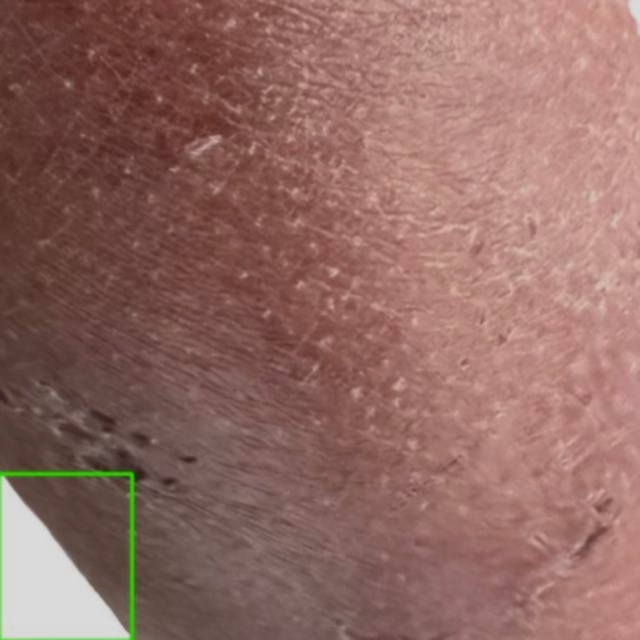Atopic Dermatitis: (0, 473, 132, 639)
